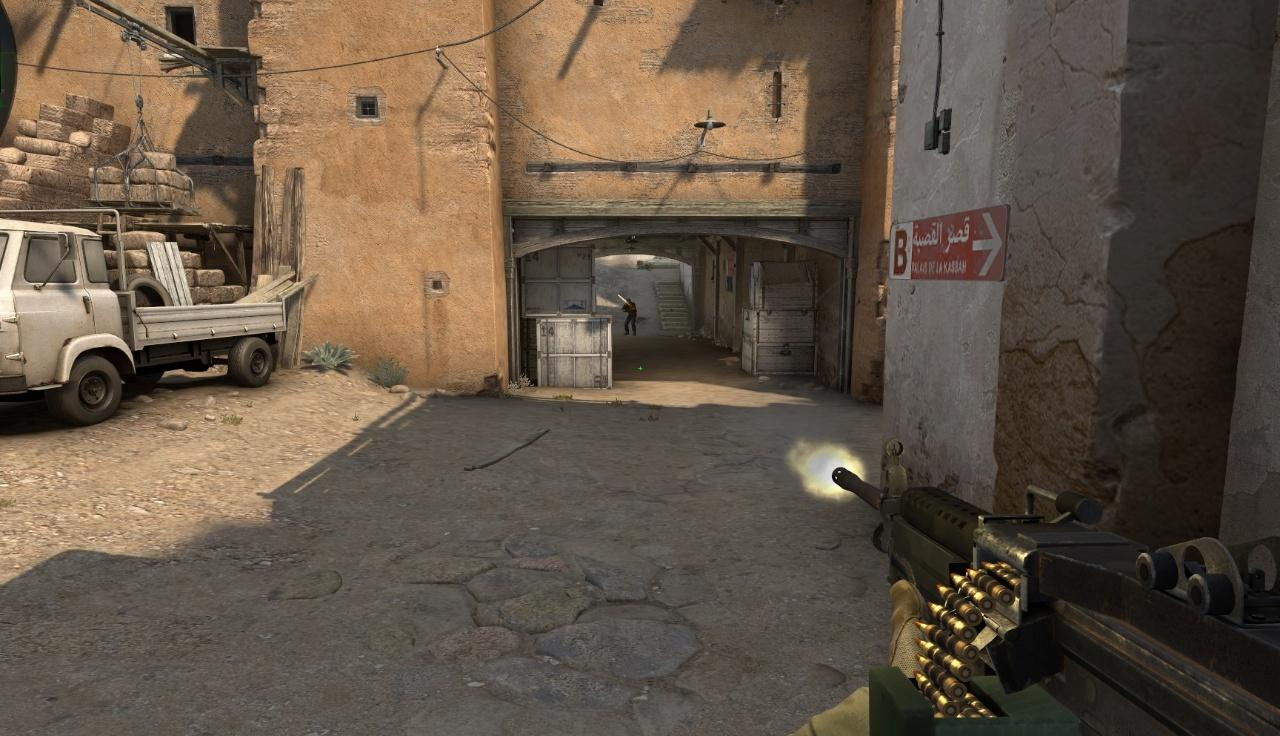rifle: (801, 439, 1280, 736)
tt: (621, 298, 637, 336)
tthead: (626, 298, 631, 304)
